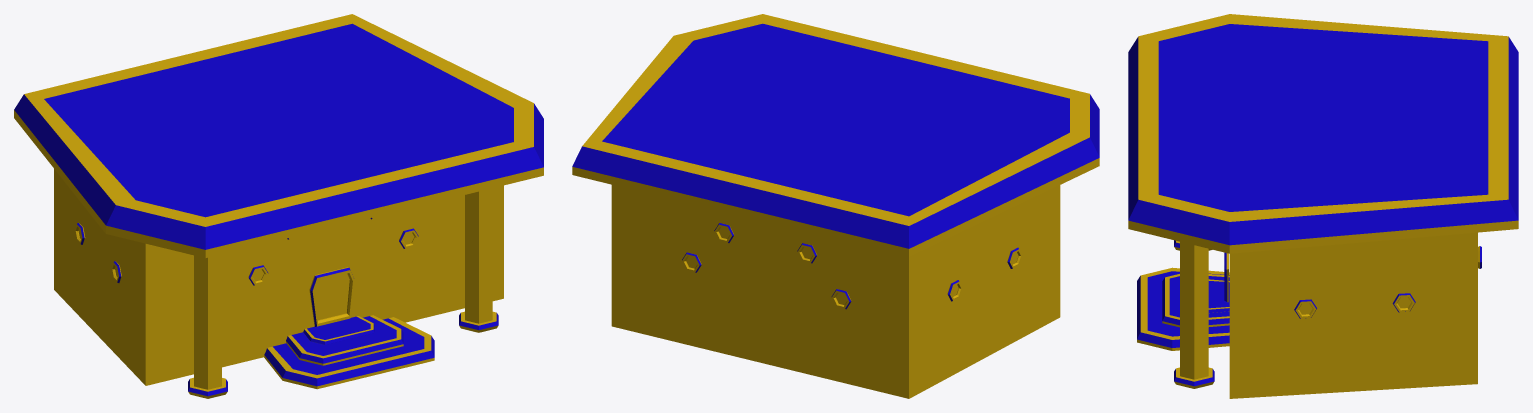
The model's file is Barracks_Player_Blue.fbx.
3 renders of one model, left to right at view 1: azimuth 30°, elevation 25°; view 2: azimuth 150°, elevation 25°; view 3: azimuth 270°, elevation 25°, orthographic. The views are drawn at different scales.
Visible parts, largest first — view 1: Barracks_Player_Blue; view 2: Barracks_Player_Blue; view 3: Barracks_Player_Blue.
Boxes of the visible parts, bbox=[...] form: Barracks_Player_Blue: bbox=[14, 14, 543, 398]; Barracks_Player_Blue: bbox=[572, 14, 1099, 398]; Barracks_Player_Blue: bbox=[1128, 14, 1518, 398].
Size of the model in its own units: 550 by 229 by 417.
